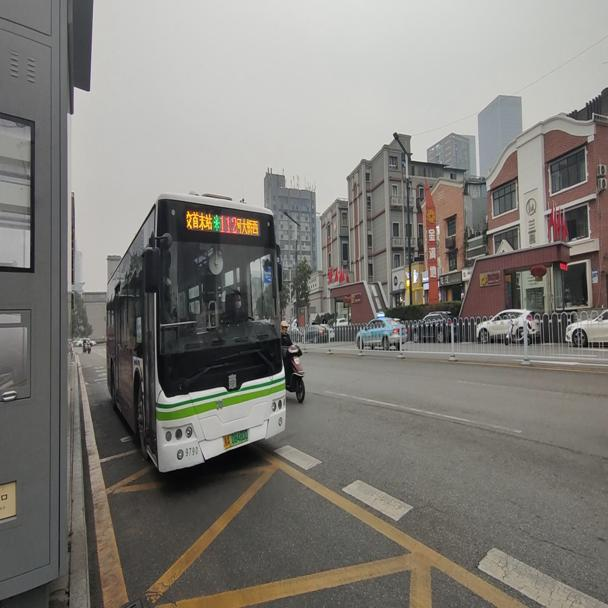bus: (104, 191, 287, 472)
screen: (218, 211, 237, 234)
